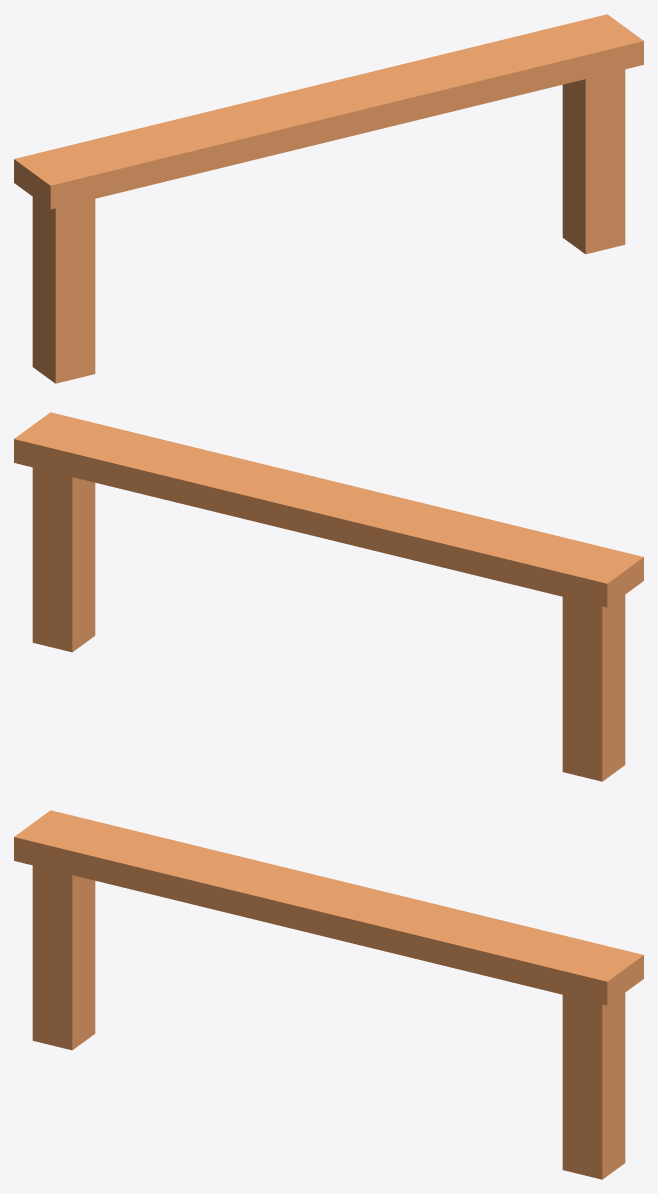
File: fence_simpleHigh.obj
3 renders of one model, top to bottom at view 1: azimuth 30°, elevation 25°; view 2: azimuth 150°, elevation 25°; view 3: azimuth 330°, elevation 25°, orthographic.
Parts seen in each view (by area): view 1: fence_simpleHigh; view 2: fence_simpleHigh; view 3: fence_simpleHigh.
Boxes of the visible parts, x1,y1,x2,y2 form: fence_simpleHigh: (14,14,643,383); fence_simpleHigh: (14,412,643,781); fence_simpleHigh: (14,810,643,1179).
Size of the model in its own units: 10.41 by 3.45 by 1.11.
